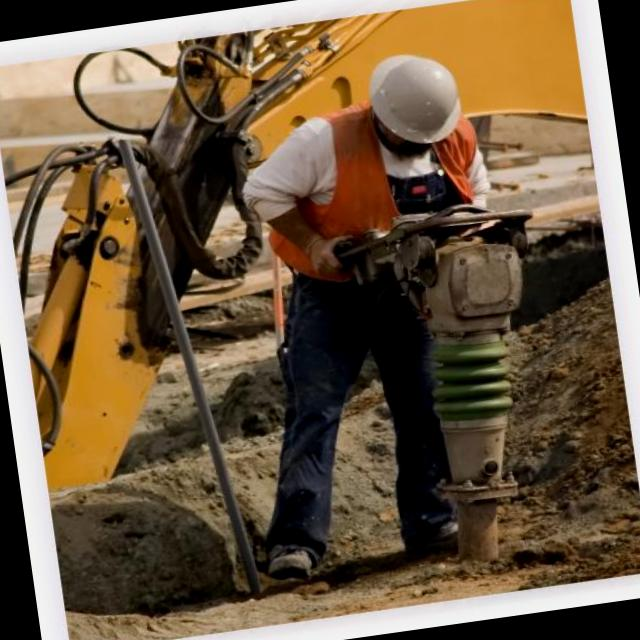helmet: (352, 39, 483, 154)
vest: (253, 100, 432, 282)
